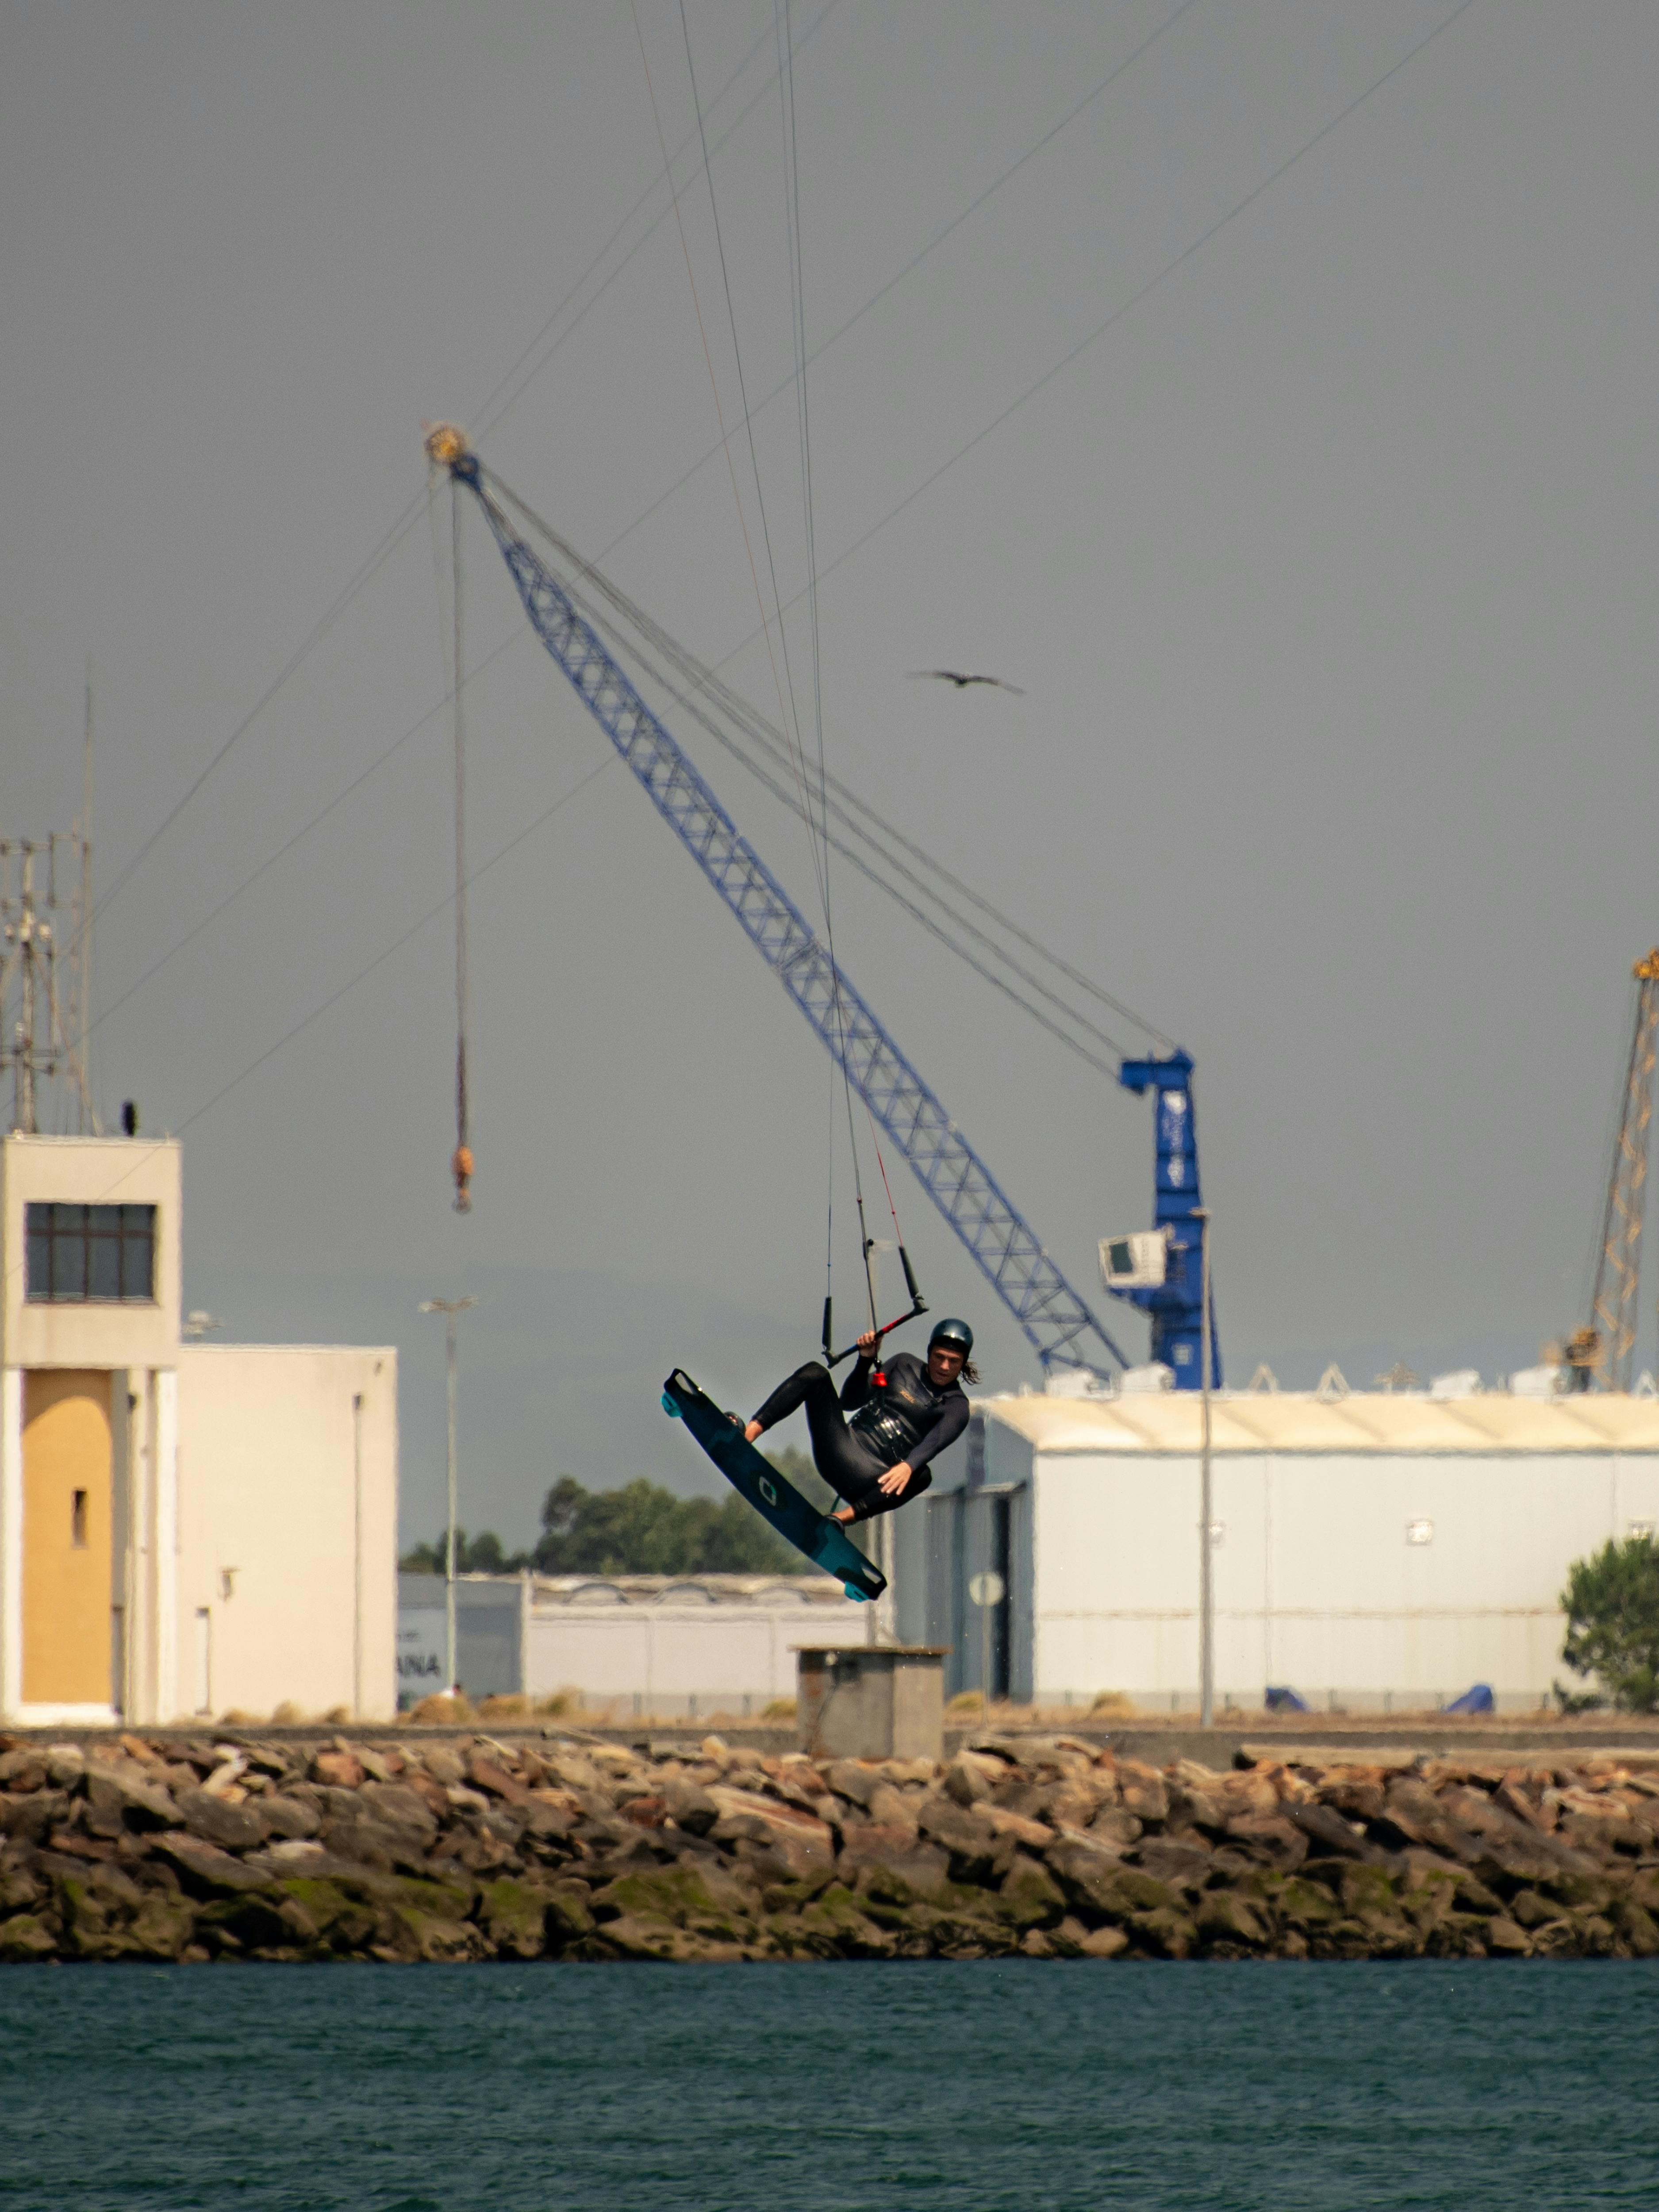capacete: (917, 1318, 986, 1372)
